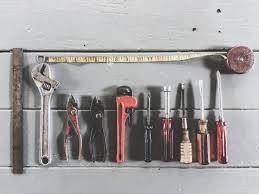wrench: (29, 61, 61, 165), (112, 84, 138, 163)
